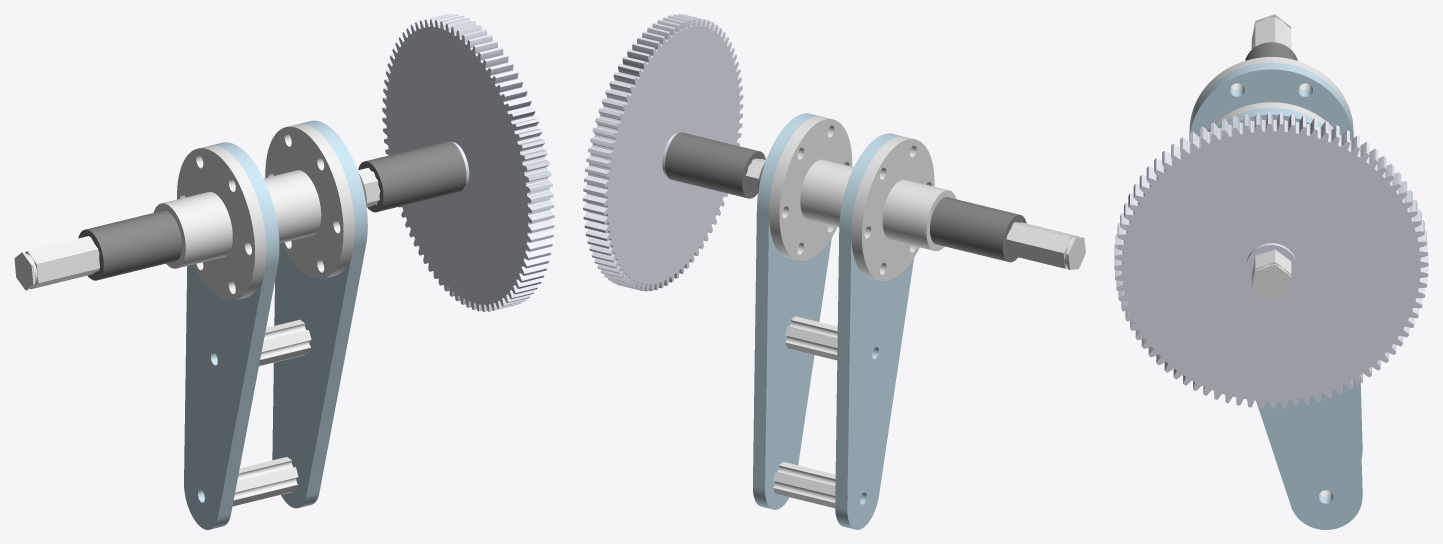
3 views of the same model, side by side, from view 1: azimuth 30°, elevation 25°; view 2: azimuth 150°, elevation 25°; view 3: azimuth 270°, elevation 25° (orthographic). The views are drawn at different scales.
Visible parts, largest first — view 1: model_3; view 2: model_3; view 3: model_3.
Boxes of the visible parts, left/top/right/bottom form: model_3: left=14, top=14, right=554, bottom=529; model_3: left=583, top=14, right=1085, bottom=529; model_3: left=1114, top=14, right=1428, bottom=529.
Size of the model in its own units: 0.2061 by 0.1854 by 0.1092.
